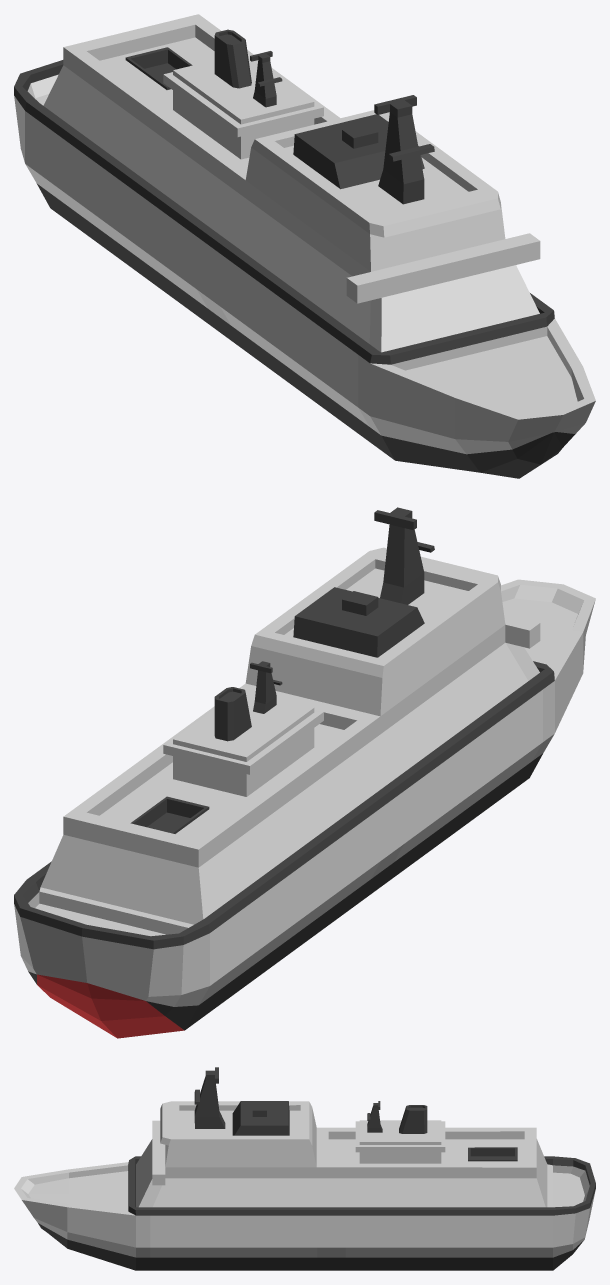
File: CruiseShip.glb
The picture shows the model from 3 angles, top to bottom: view 1: azimuth 30°, elevation 25°; view 2: azimuth 150°, elevation 25°; view 3: azimuth 270°, elevation 25°; orthographic projection. The views are drawn at different scales.
Visible parts, largest first — view 1: CruiseShip; view 2: CruiseShip; view 3: CruiseShip.
Boxes of the visible parts, x1=… form: CruiseShip: x1=14, y1=14, x2=595, y2=478; CruiseShip: x1=14, y1=507, x2=595, y2=1038; CruiseShip: x1=14, y1=1067, x2=595, y2=1270.
Bounding box in the file's own units: 4 × 6.6 × 18.05.
